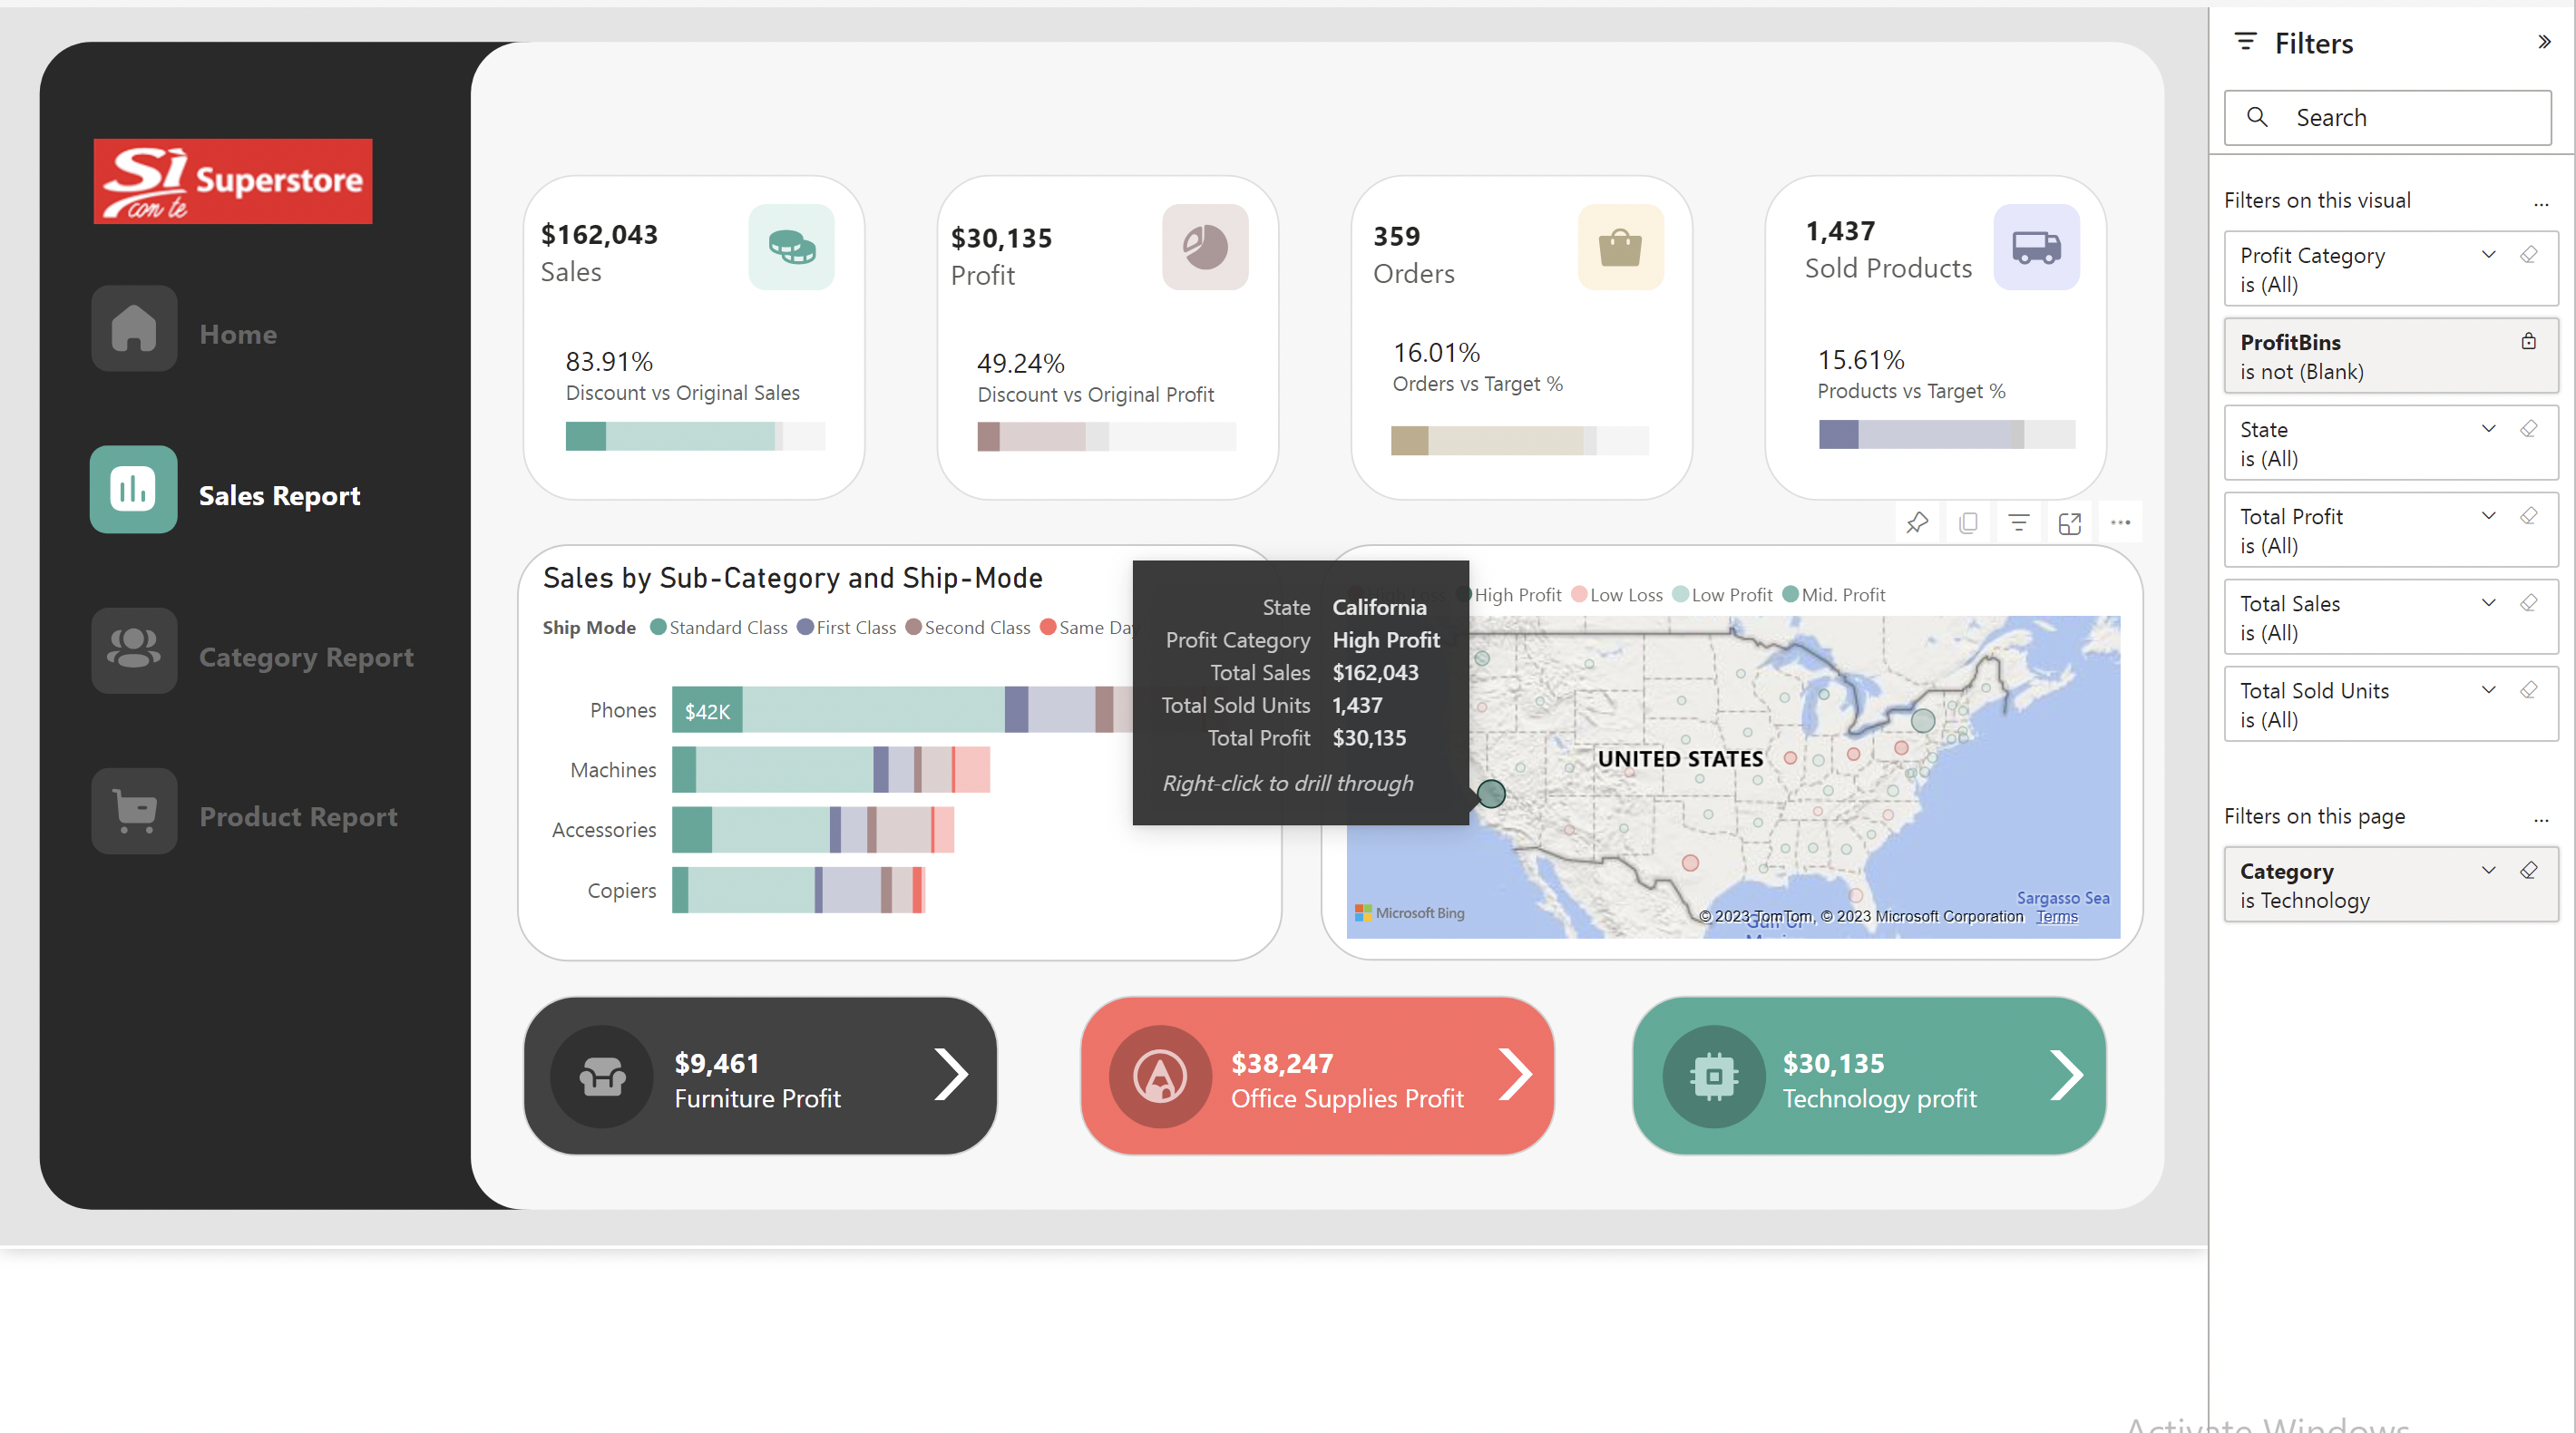

This screenshot's page, from the dashboard's own definition file:
{"tool":"powerbi","page":{"name":"Geographical Insights","canvas":[1280,720],"ordinal":4},"visuals":[{"type":"group","id":"g1","title":"Group 1","box":[0,0,1284.3,720.5],"z":0},{"type":"clusteredBarChart","title":"Profit by State","fields":{"Y":["Sum(SalesFact.Profit)"],"Category":["LocationDim.Country Hierarchy.City","LocationDim.Country Hierarchy.Postal Code"]},"box":[0,234.2,440.7,486.3],"z":0,"group":"g1"},{"type":"actionButton","box":[0,0,100,40],"z":1000},{"type":"card","title":"Total Profit/Loss","fields":{"Values":["Sum(SalesFact.Profit)"]},"box":[1020,3.4,260,162.7],"z":1000,"group":"g1"},{"type":"card","title":"Avarege Item Price","fields":{"Values":["Sum(SalesFact.Avg Item Price (after discount))"]},"box":[791.9,0,244.1,162],"z":2000},{"type":"lineClusteredColumnComboChart","fields":{"Category":["CategoryDim.Category Hierarchy.Category","CategoryDim.Category Hierarchy.Sub-Category"],"Y2":["Sum(SalesFact.Sales)"],"Y":["Sum(SalesFact.Profit)"]},"box":[456.4,211.1,827.5,507.5],"z":2000,"group":"g1"},{"type":"card","title":"State","fields":{"Values":["Min(LocationDim.State)"]},"box":[35.7,0,300.2,132.8],"z":3000},{"type":"card","title":"Total Sales","fields":{"Values":["Sum(SalesFact.Sales)"]},"box":[336.8,0,239.8,162],"z":3000,"group":"g1"},{"type":"card","title":"Total Sold Items","fields":{"Values":["Sum(SalesFact.Quantity)"]},"box":[563.8,0,228.1,166.3],"z":4000,"group":"g1"}]}

Visuals, with their boxes on the page's 1280x720 design canvas (x1, y1, x2, y2). These are canvas units, not pixel positions in the 2576x1433 screenshot, which may show the page scaled, cropped or inside an application window:
"Group 1" group: <box>0,0,1284,720</box>
"Profit by State" clusteredBarChart: <box>0,234,441,720</box>
actionButton: <box>0,0,100,40</box>
"Total Profit/Loss" card: <box>1020,3,1280,166</box>
"Avarege Item Price" card: <box>792,0,1036,162</box>
lineClusteredColumnComboChart - CategoryDim.Category Hierarchy.Category x CategoryDim.Category Hierarchy.Sub-Category: <box>456,211,1284,719</box>
"State" card: <box>36,0,336,133</box>
"Total Sales" card: <box>337,0,577,162</box>
"Total Sold Items" card: <box>564,0,792,166</box>
